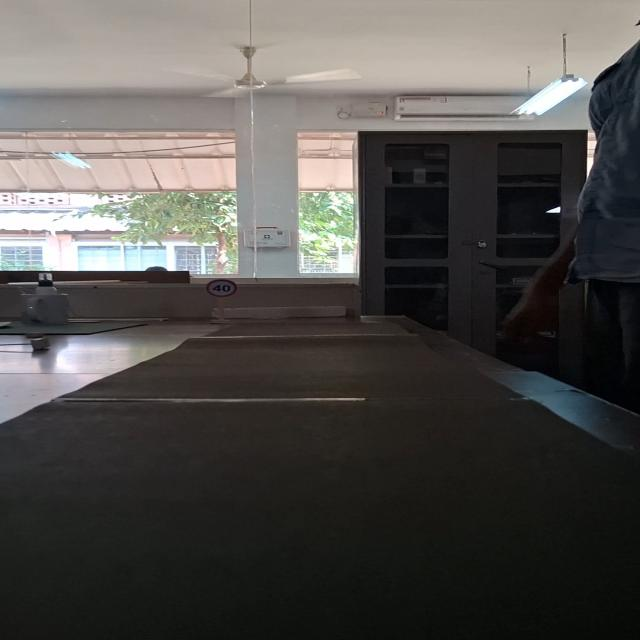Speed40: (204, 279, 239, 298)
